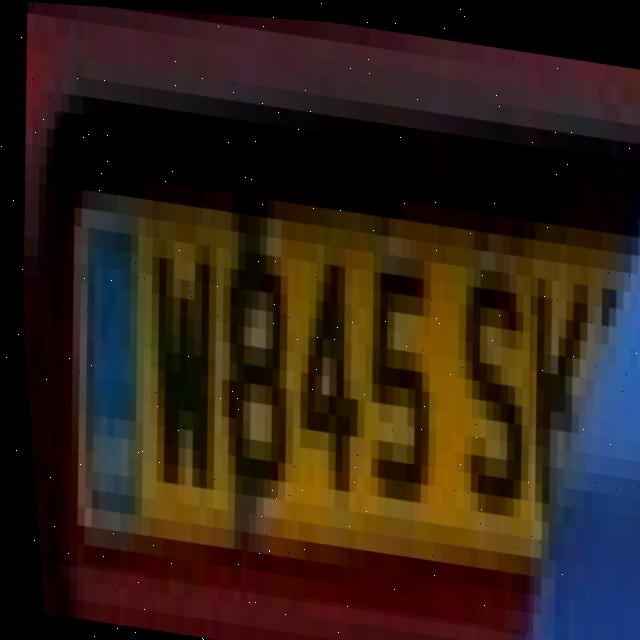LicensePlate: (15, 112, 559, 631)
